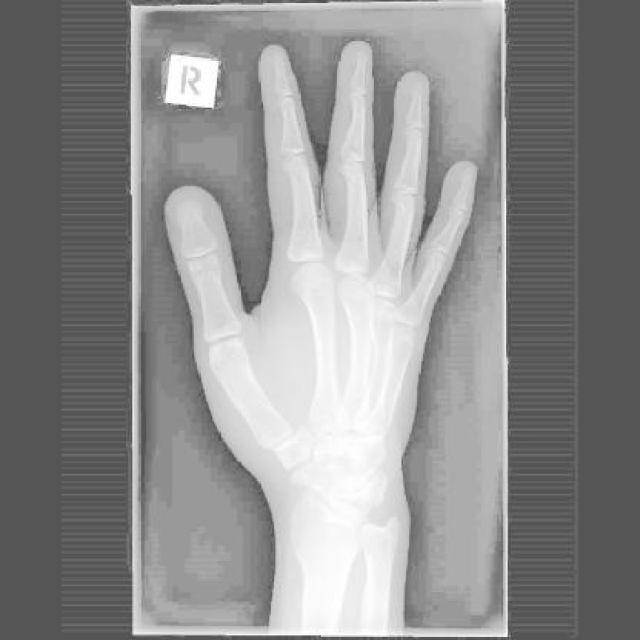Fracture: (283, 437, 320, 480)
